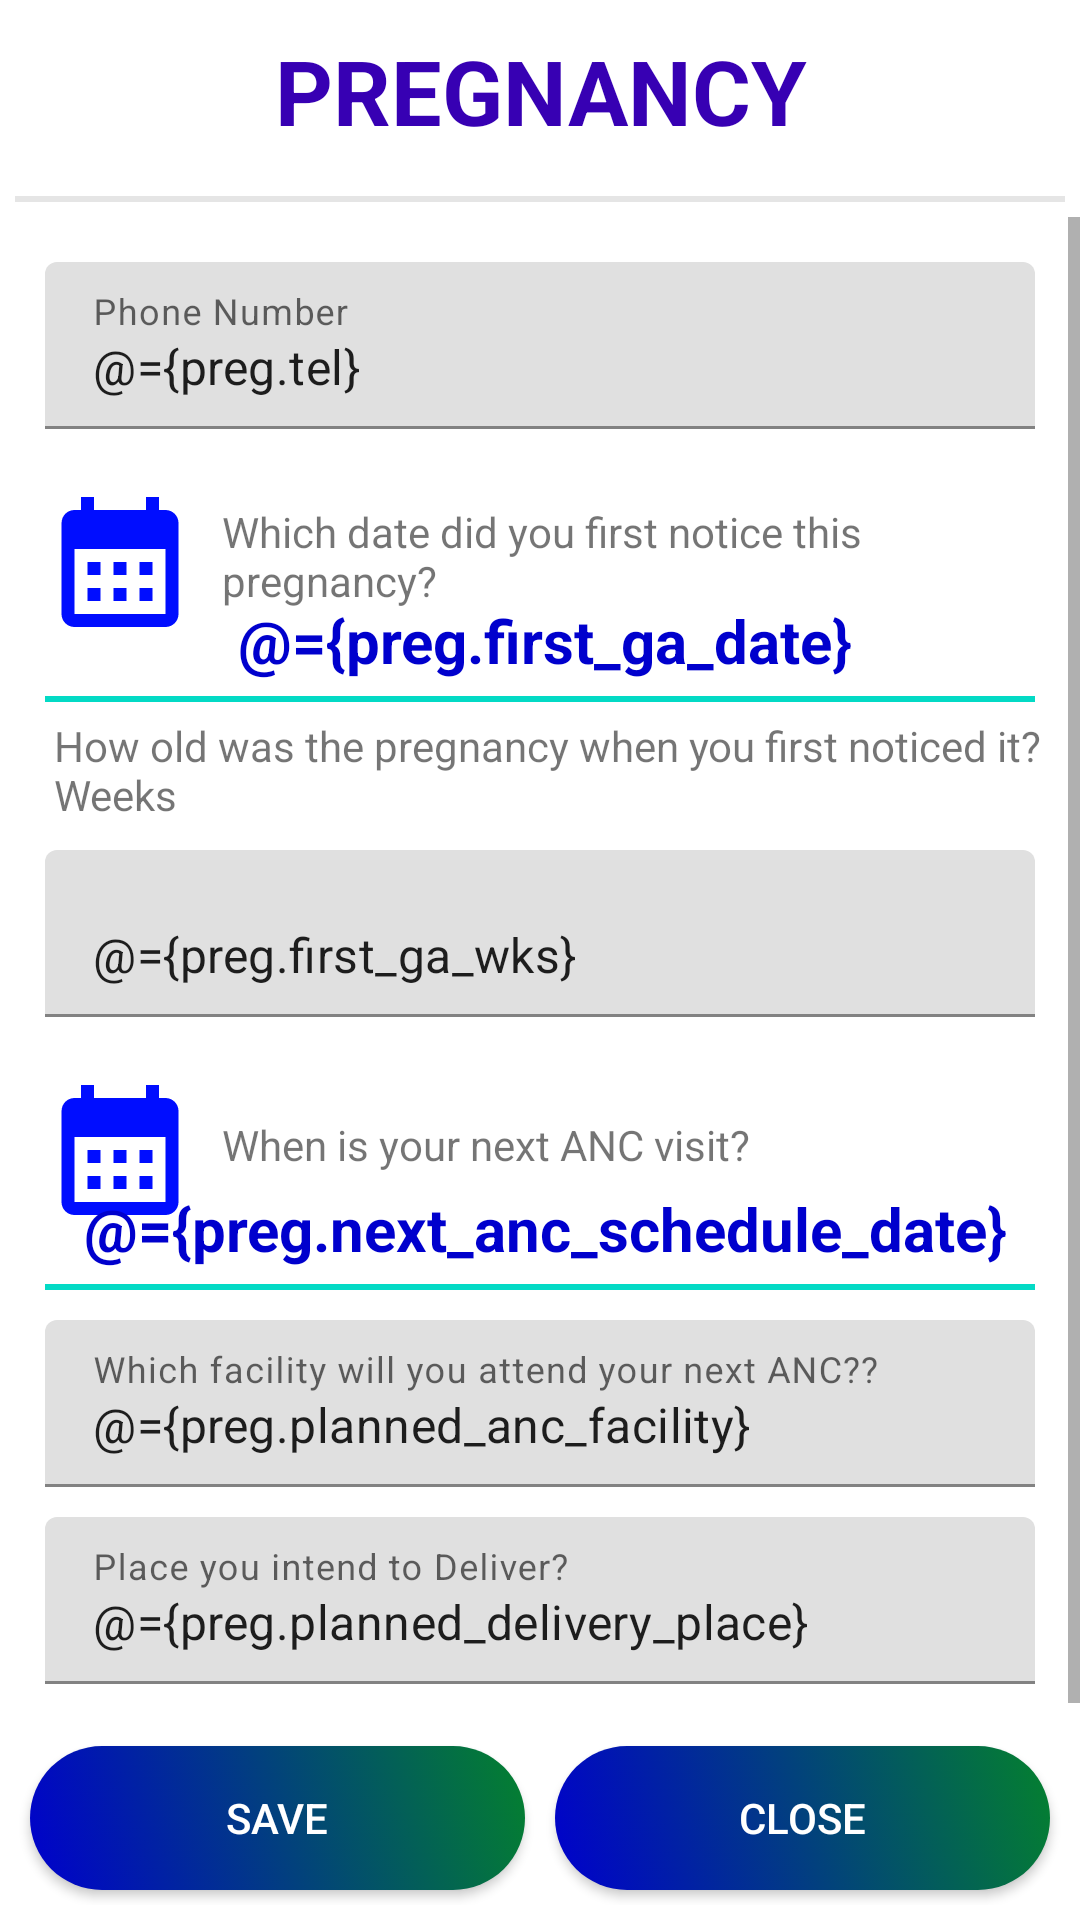

Icons on this 1080×1920 Android screen, each with its box as (x1, y1, x2, y2):
calendar schedule: (61, 497, 179, 627), (61, 1085, 198, 1228)
